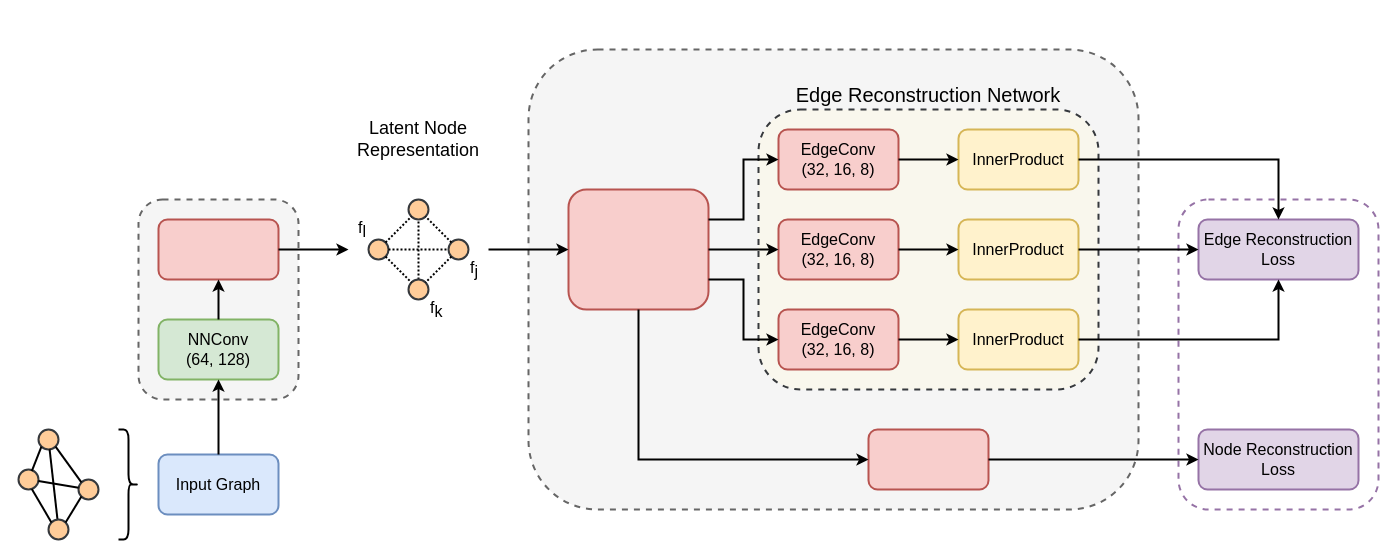
Some shapes in this 1396 by 559 pixel diagram are drawn without their labels. Here are the shapes that lost their labels. From the top down, the box of each, then its label:
(407, 198, 429, 220): f i
(157, 218, 279, 280): EdgeConv (64, 32, latent)
(567, 188, 709, 310): EdgeConv (32, 64, 128)
(137, 198, 299, 400): Encoder
(527, 48, 1139, 510): Decoder
(1177, 198, 1379, 510): Total Loss
(867, 428, 989, 490): EdgeConv (64, 32, 7)
